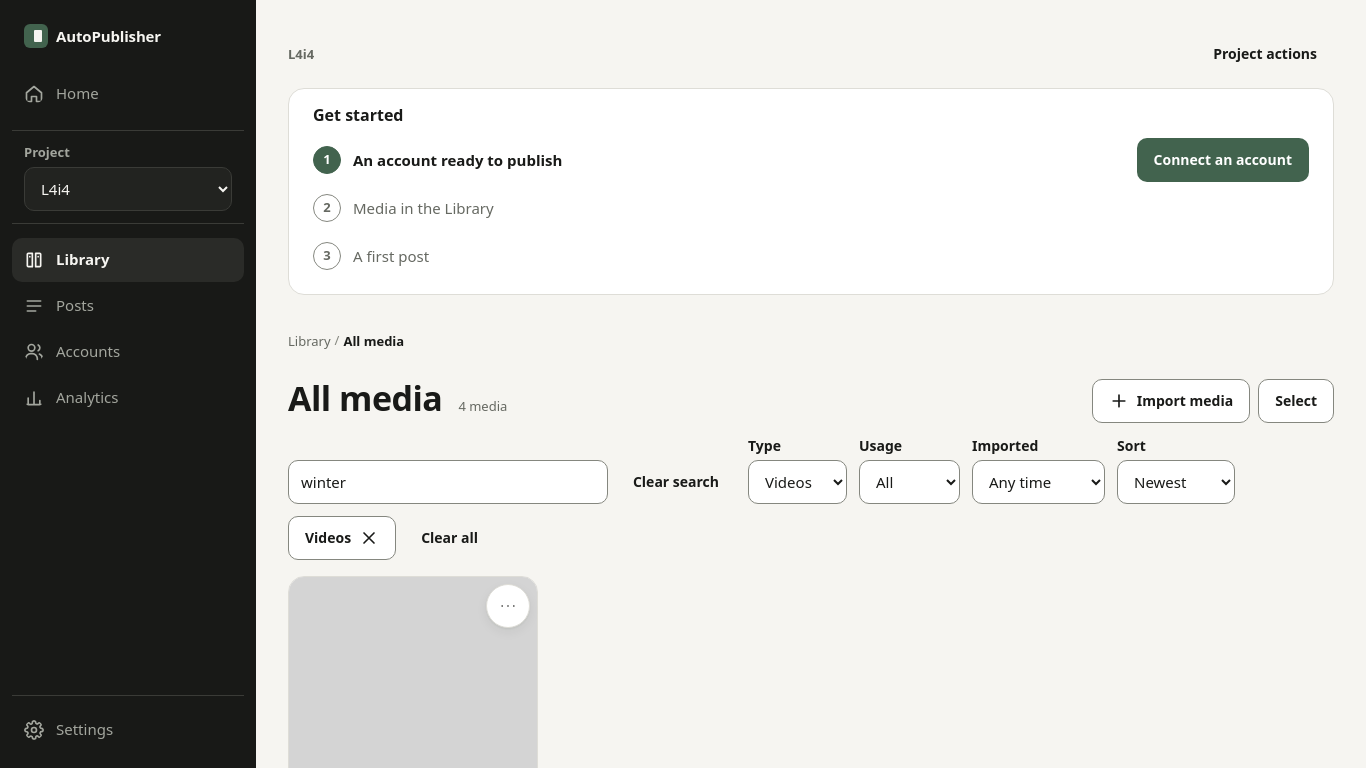
Test case: Active filters › Clear search keeps the filters
Expected: the heading "All media" is shown, [288, 379, 442, 418]
What coordinates should you click on to do the following:
click the button "Clear search"
I would click on:
 (676, 482)
Its box is [616, 460, 736, 504].
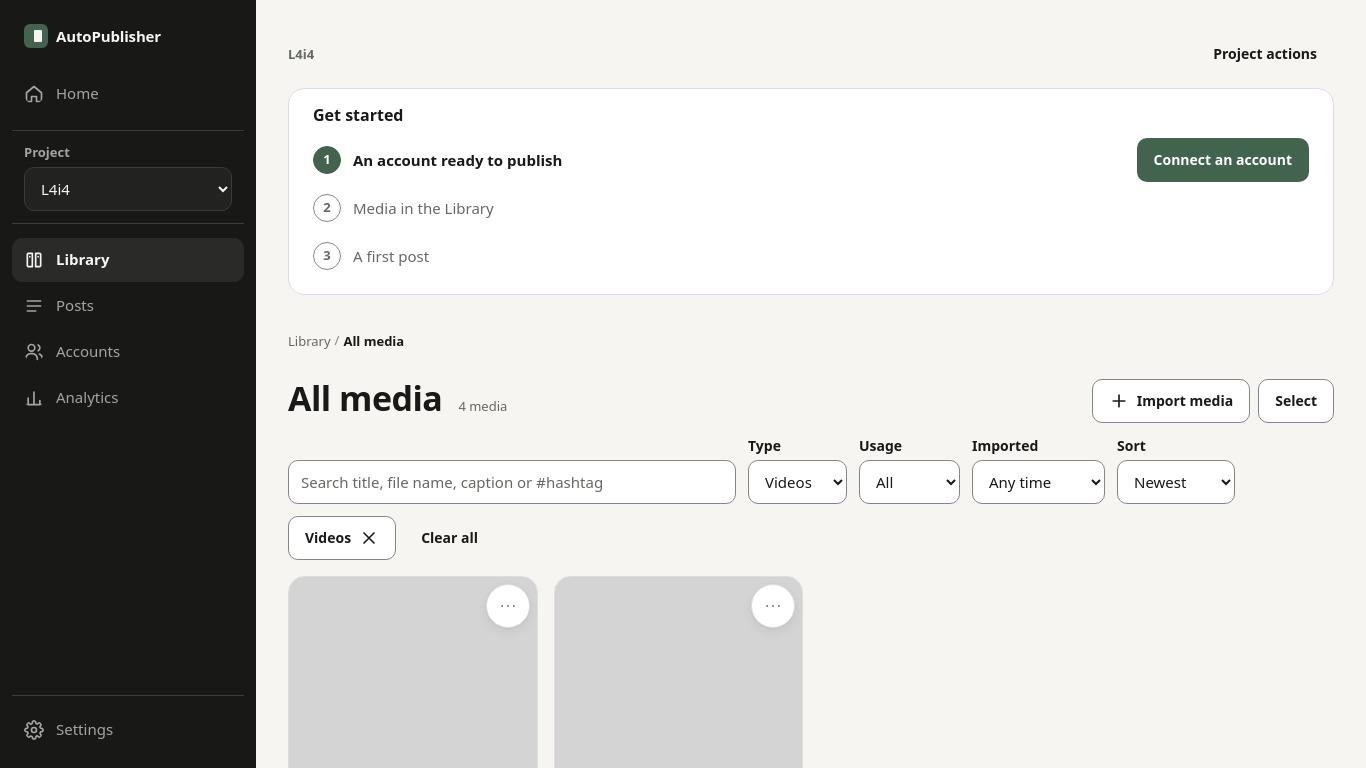
Expected: the search field named "Search media" is empty, [288, 460, 736, 504]
Expected: the button "Clear search" is gone
